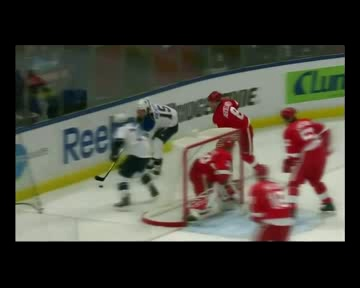normal: (95, 90, 184, 205), (277, 99, 337, 215)
